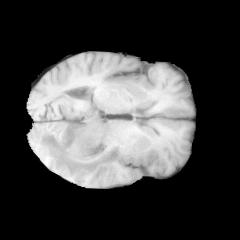glioma: (38, 104, 120, 176)
